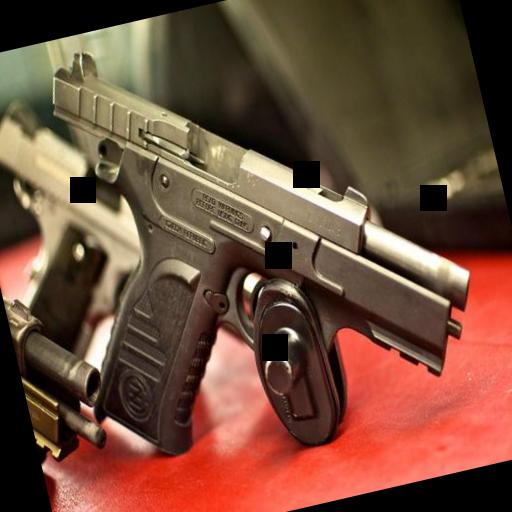Handgun: (20, 0, 492, 490)
